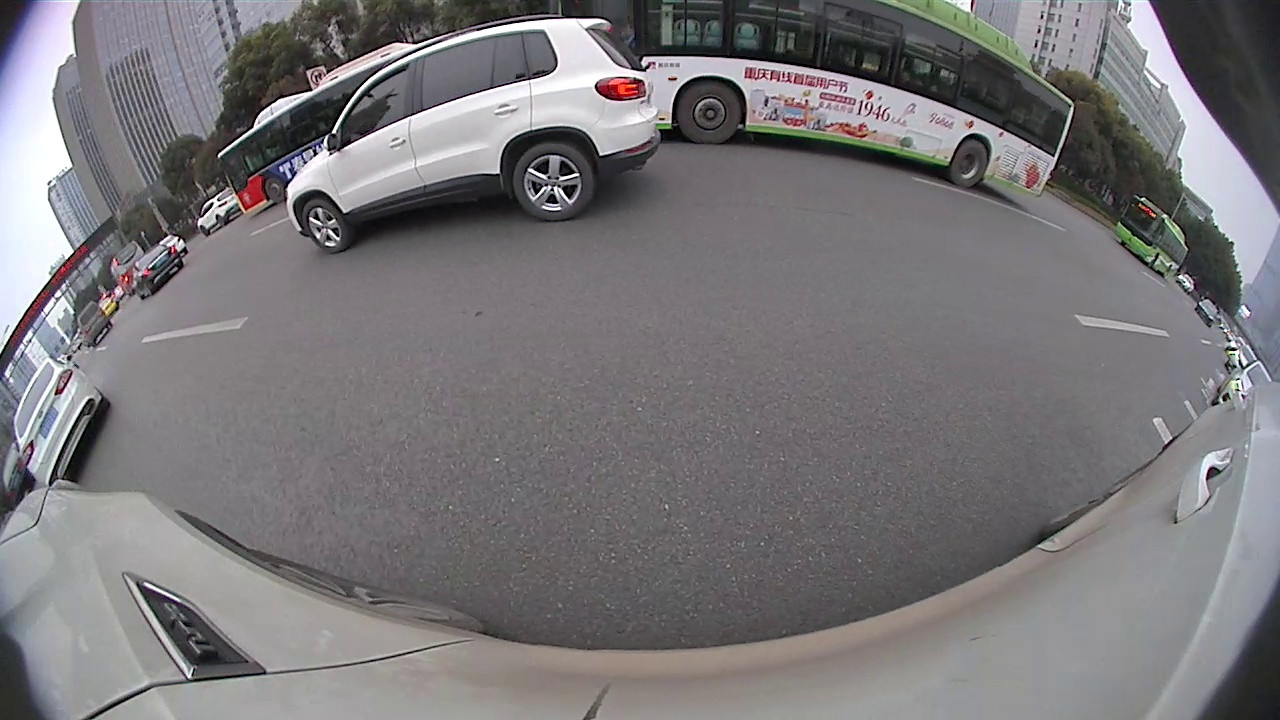bus: (546, 2, 1080, 201), (213, 39, 417, 222), (1110, 188, 1193, 285)
car: (283, 16, 661, 254), (12, 353, 112, 487), (129, 240, 186, 301), (192, 188, 244, 238)
front: (677, 79, 744, 145), (302, 199, 348, 254), (262, 172, 287, 204)
rear: (511, 141, 598, 222), (949, 140, 990, 188)
